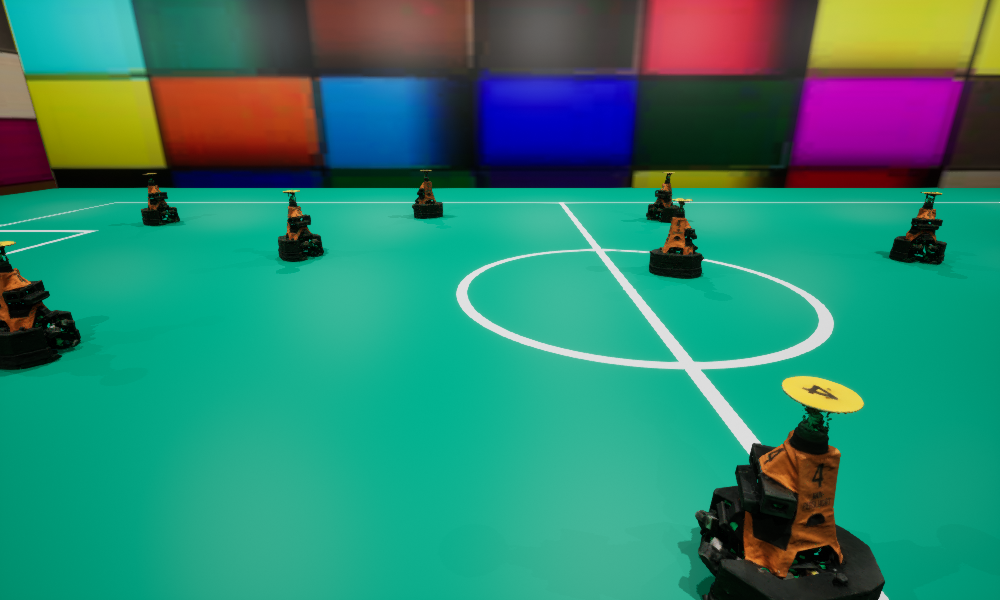o: (695, 376, 884, 599), (0, 241, 80, 369), (649, 198, 703, 278), (889, 192, 946, 263), (278, 190, 323, 261), (141, 173, 179, 225), (646, 172, 678, 221), (412, 170, 442, 218)
